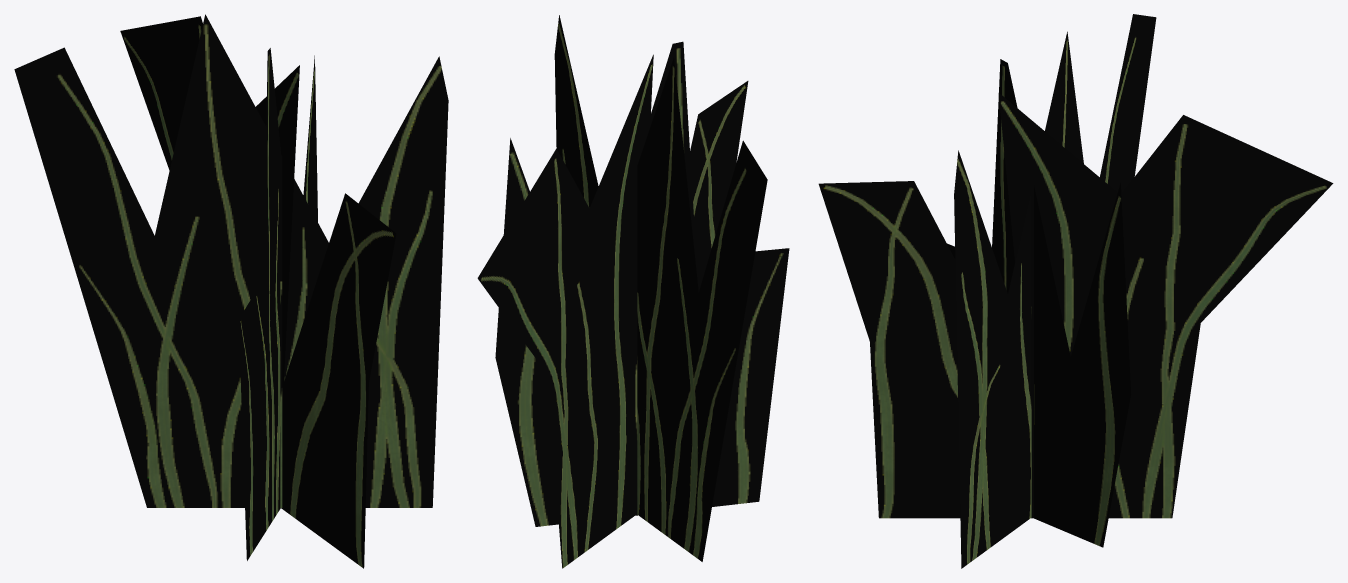
The model's file is SM_Grass_01.fbx.
3 renders of one model, left to right at view 1: azimuth 30°, elevation 25°; view 2: azimuth 150°, elevation 25°; view 3: azimuth 270°, elevation 25°, orthographic. The views are drawn at different scales.
Parts seen in each view (by area): view 1: SM_Grass_01_LOD0; view 2: SM_Grass_01_LOD0; view 3: SM_Grass_01_LOD0.
Part boxes in pixels (left/top/right/bottom): SM_Grass_01_LOD0: left=14, top=14, right=448, bottom=568; SM_Grass_01_LOD0: left=477, top=15, right=789, bottom=568; SM_Grass_01_LOD0: left=818, top=14, right=1333, bottom=568.
Size of the model in its own units: 28.83 by 42.36 by 41.88.
